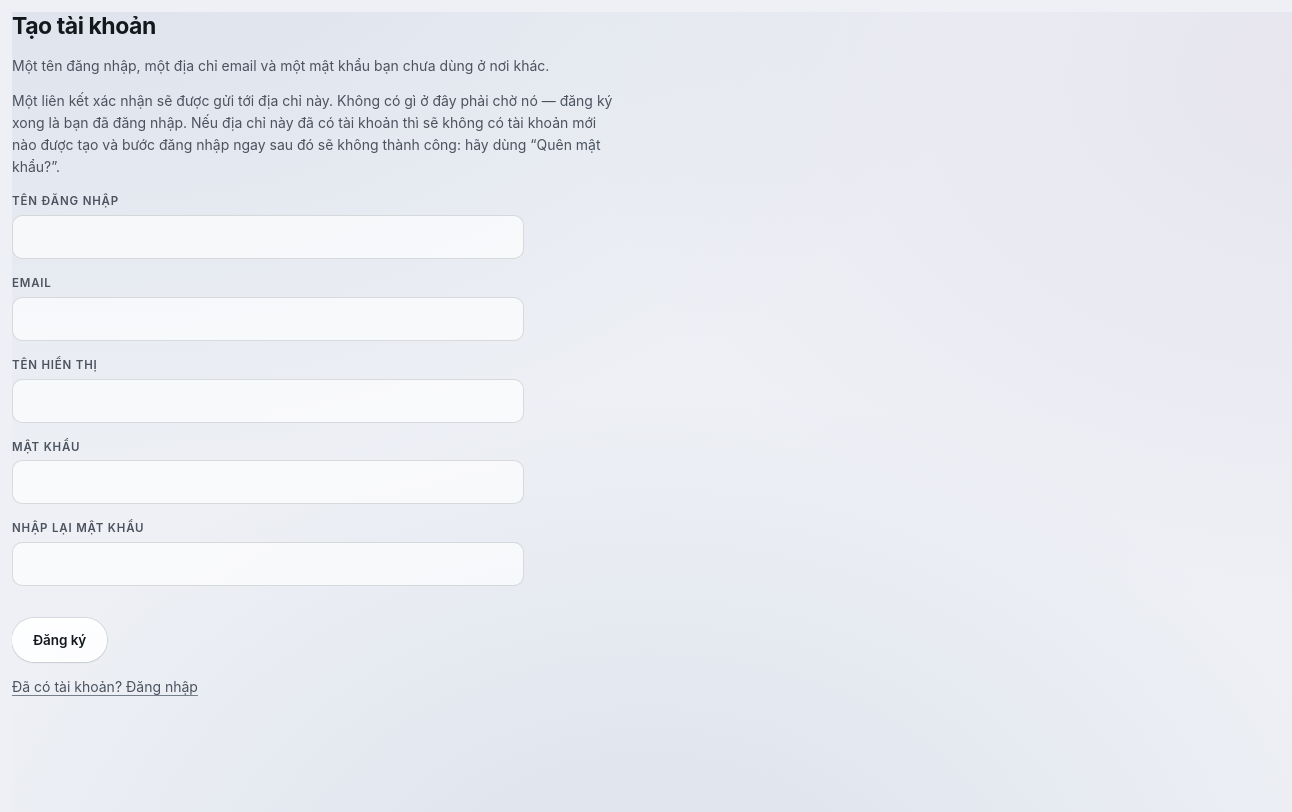
RegisterPage on a server refusal › never marks the email field from a server code (D26 — no email_taken exists)
Step 1. Type "kim.new-1" into the field labelled "Tên đăng nhập" → (268, 237), box [12, 215, 524, 259]
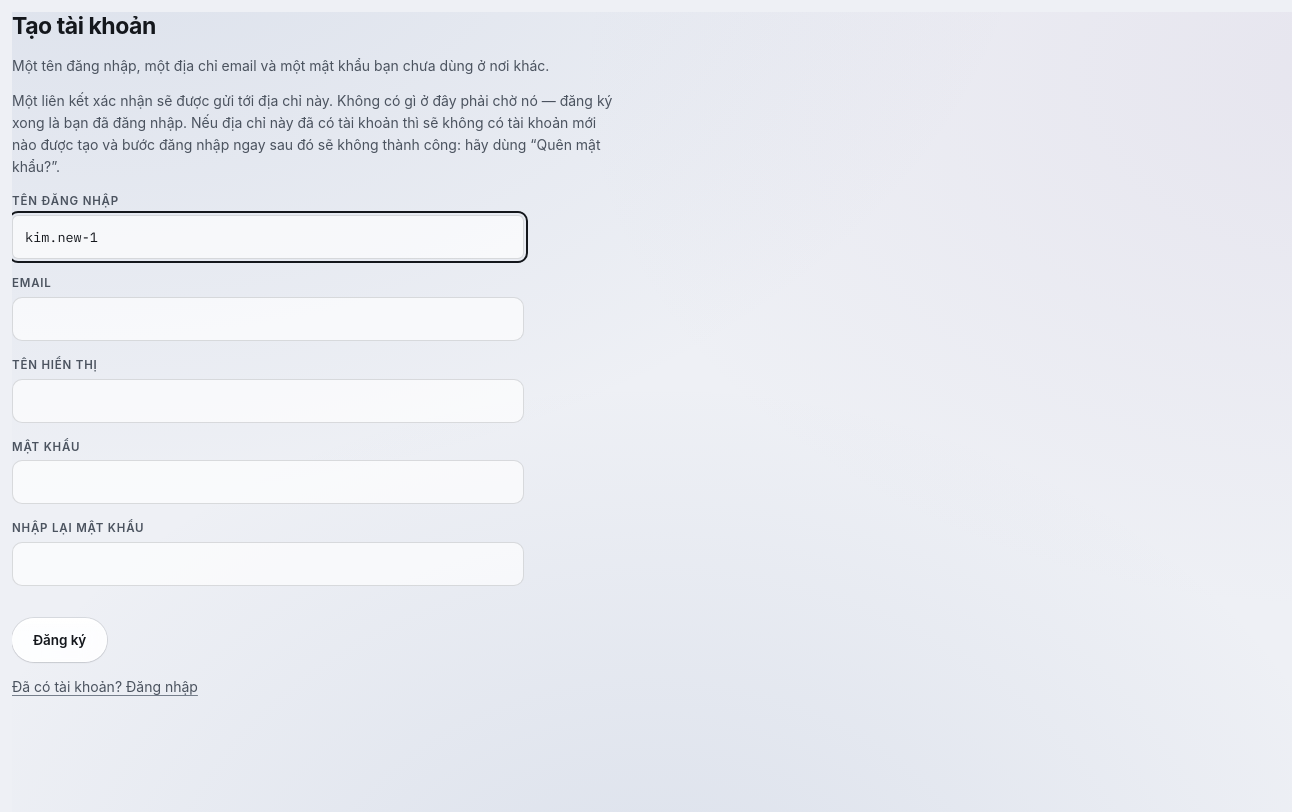
Step 2. Type "kim@example.com" into the field labelled "Email" → (268, 319), box [12, 297, 524, 341]
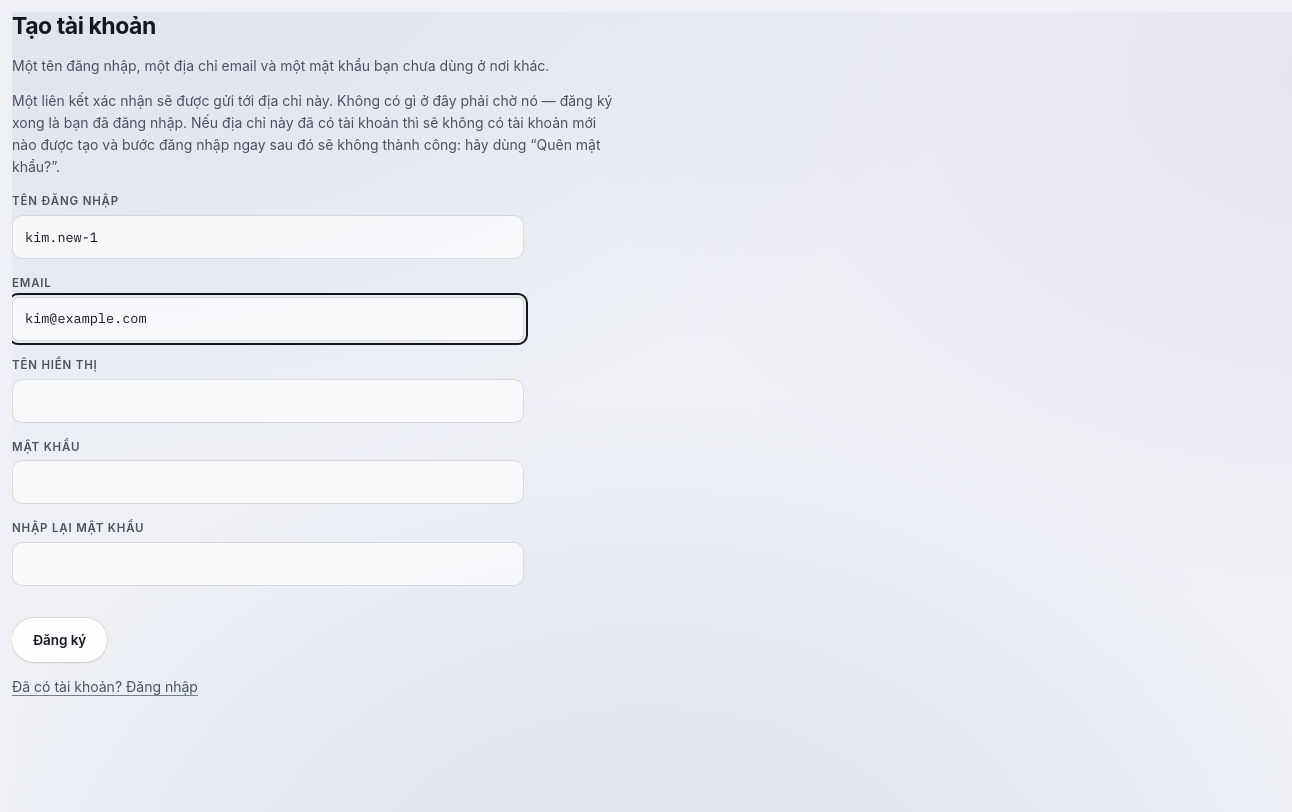
Step 3. Type "Kim" into the field labelled "Tên hiển thị" → (268, 401), box [12, 379, 524, 423]
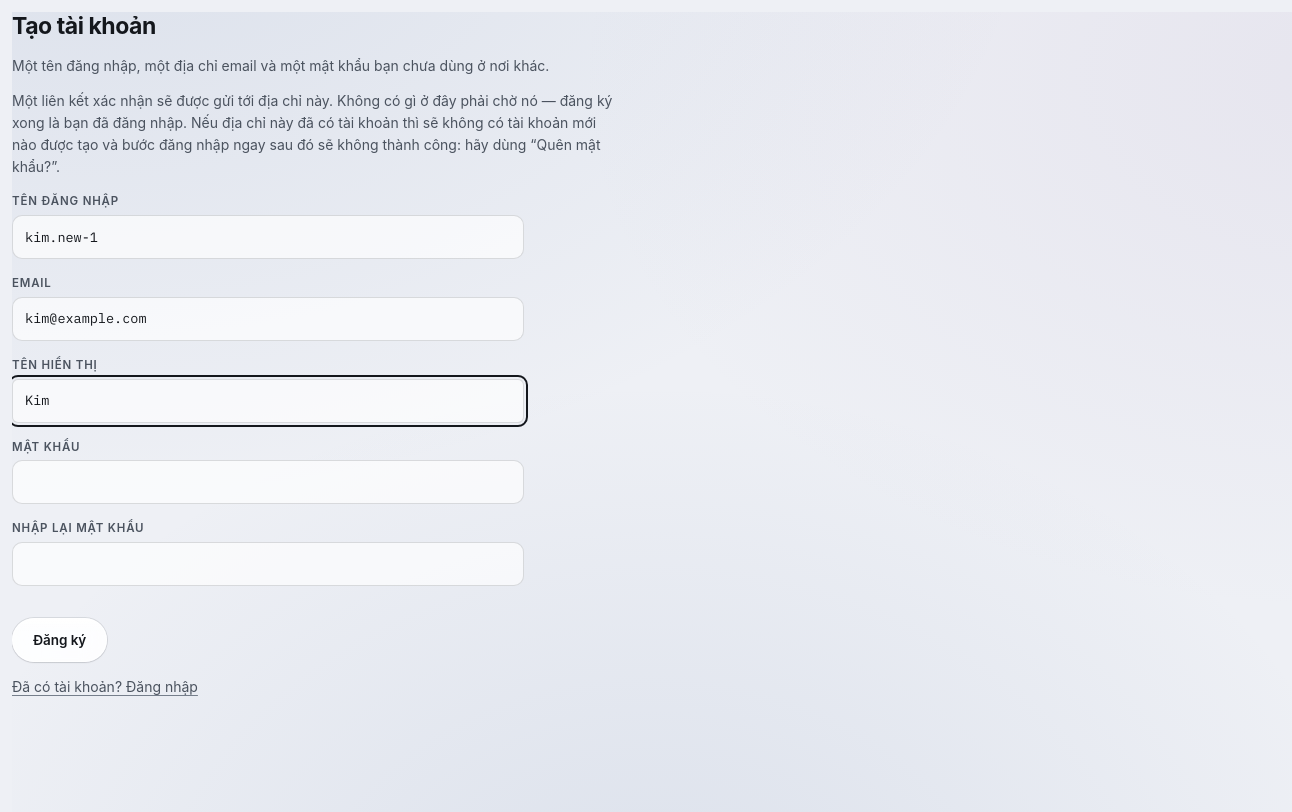
Step 4. Type "a-long-enough-password" into the password field labelled "Mật khẩu" → (268, 482), box [12, 460, 524, 504]
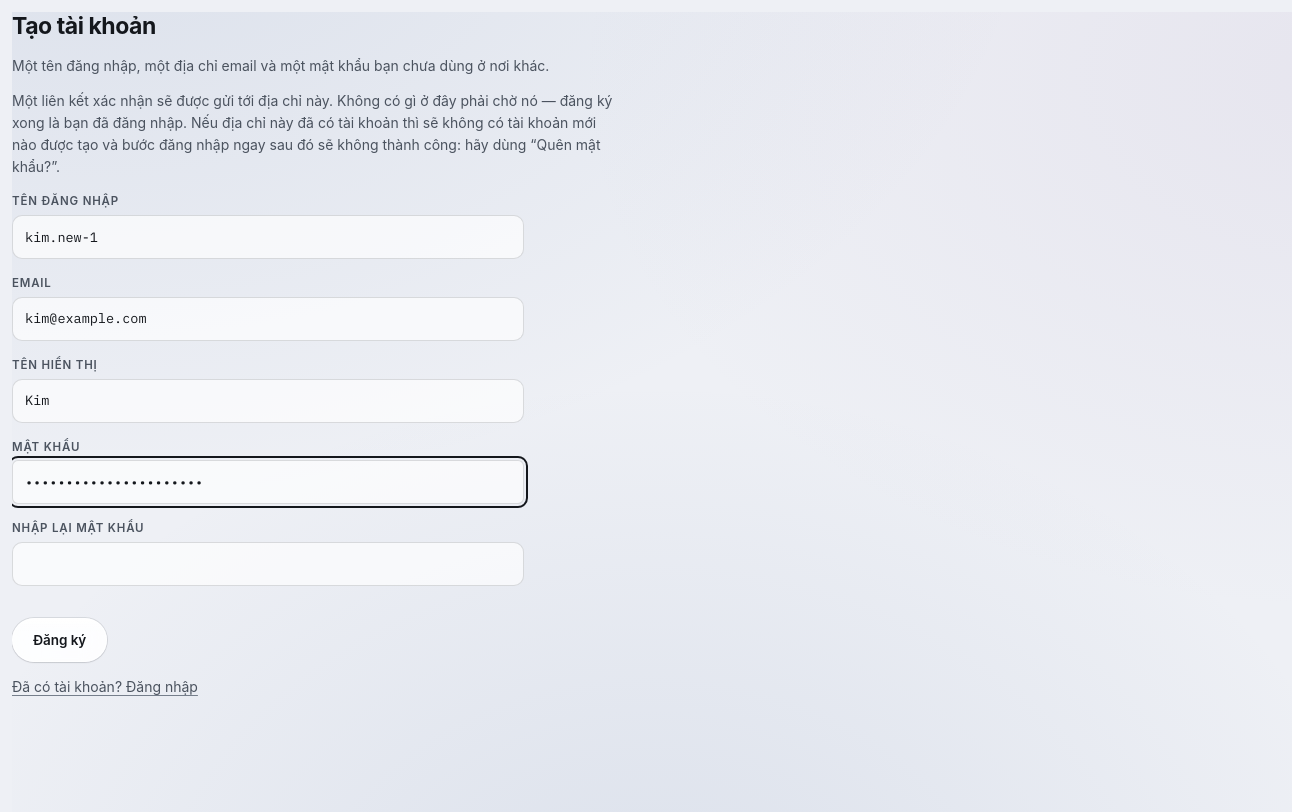
Step 5. Type "a-long-enough-password" into the password field labelled "Nhập lại mật khẩu" → (268, 564), box [12, 542, 524, 586]
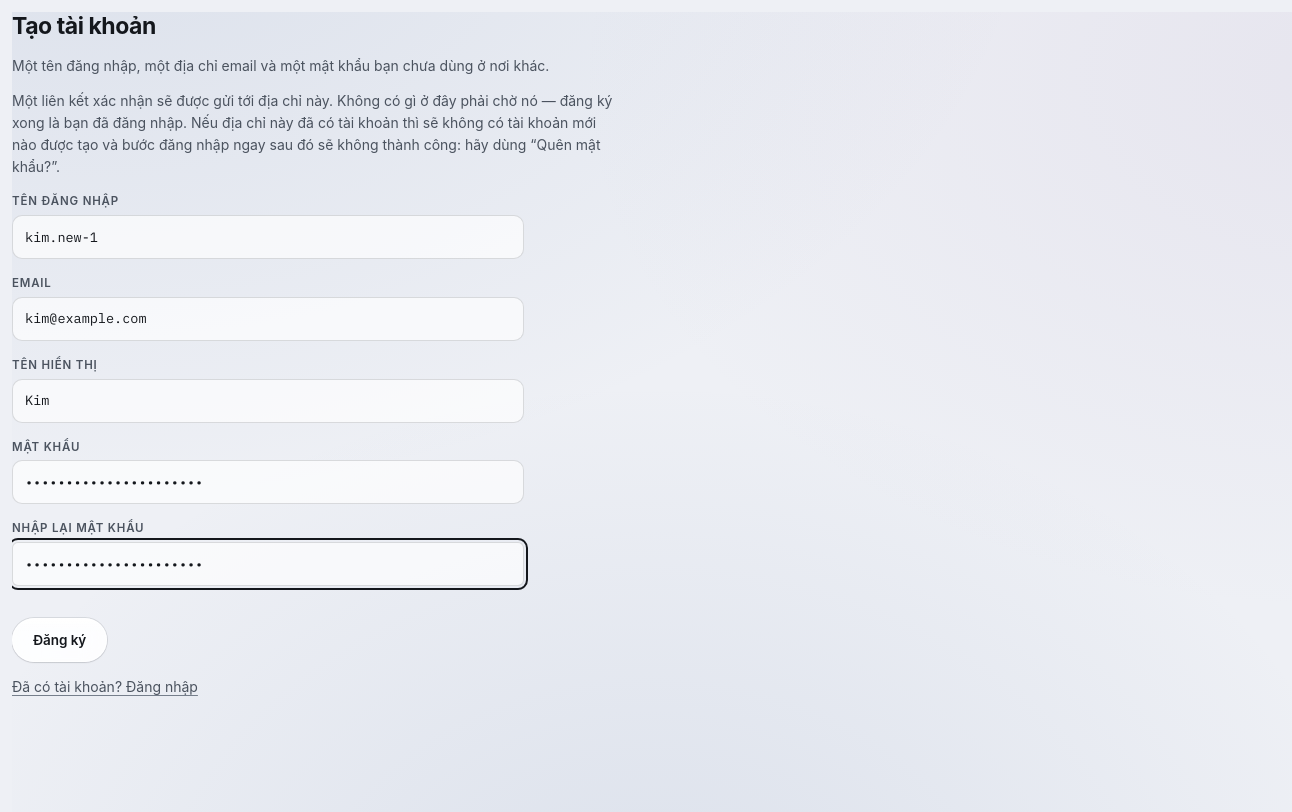
Step 6. Click the button "Đăng ký" → (60, 640), box [12, 618, 107, 662]
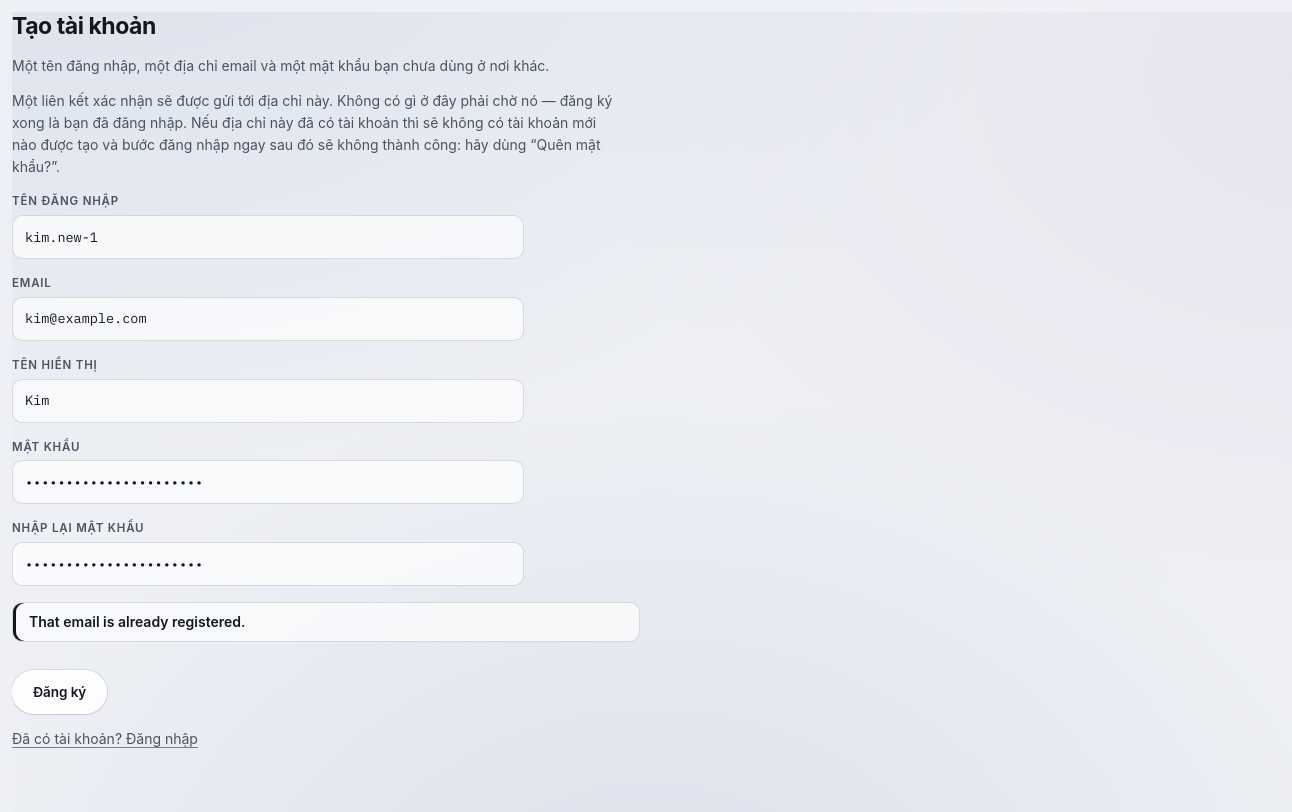
Expected: the message shows "already registered", [29, 613, 246, 630]
